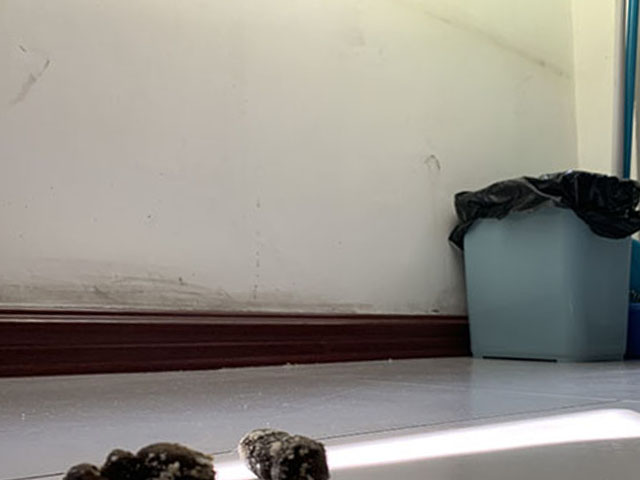feces: (56, 439, 220, 480), (236, 426, 331, 480)
trashcan: (446, 168, 640, 366)
